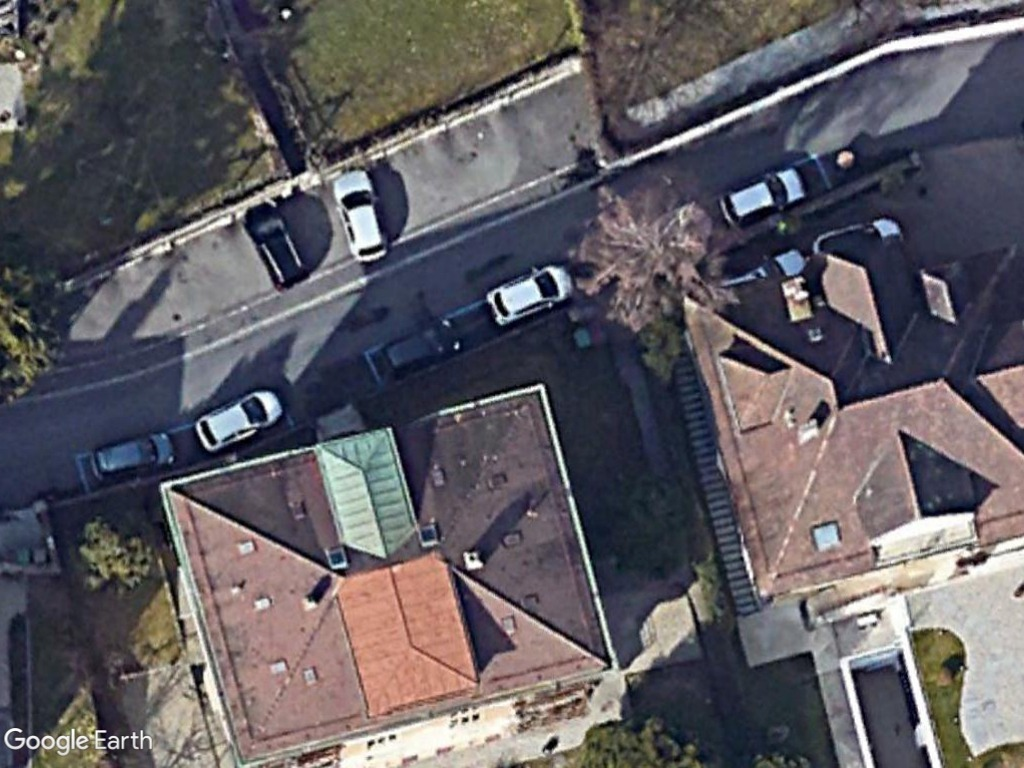car: (717, 162, 810, 231), (194, 385, 284, 455), (486, 260, 576, 329), (329, 168, 391, 266), (243, 207, 313, 290), (86, 429, 176, 484)
